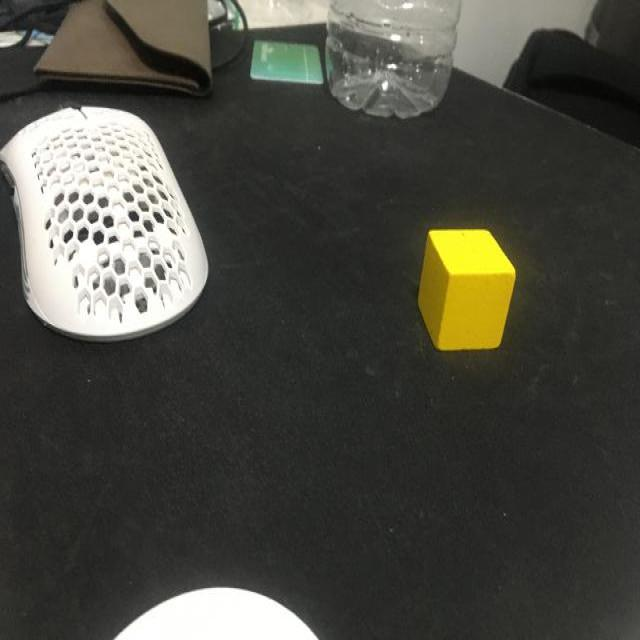yellow: (418, 229, 516, 350)
